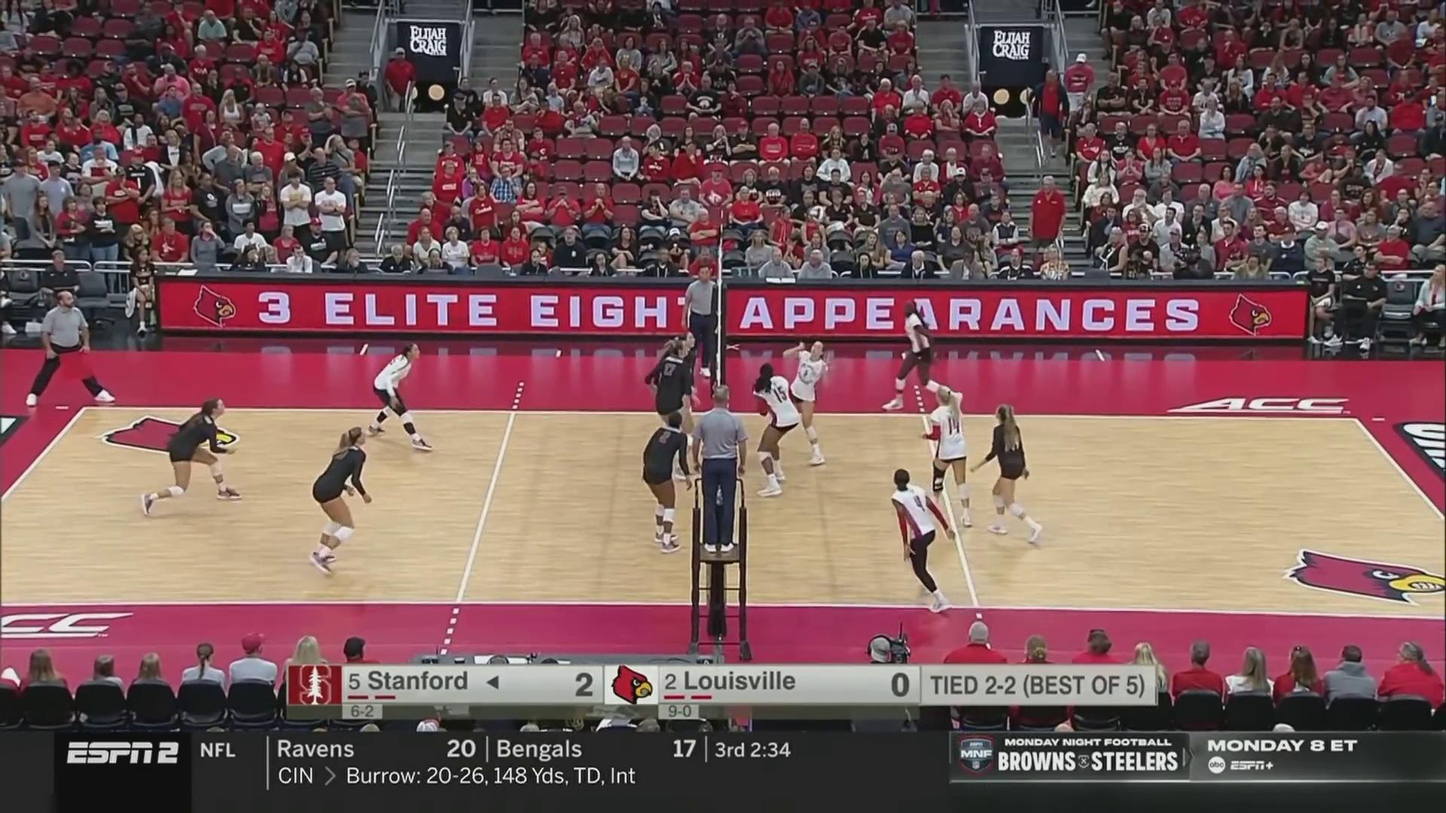player: (138, 397, 244, 510), (307, 429, 372, 573), (890, 471, 956, 609), (882, 301, 962, 413), (983, 404, 1044, 542), (647, 343, 697, 481), (779, 339, 833, 466), (641, 412, 690, 550), (924, 386, 973, 524), (367, 342, 429, 449), (754, 364, 801, 498), (664, 333, 703, 456)
refree: (28, 292, 115, 407), (694, 386, 748, 551), (682, 265, 721, 374)
